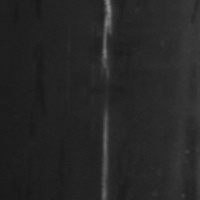scratches: (99, 102, 115, 199), (96, 0, 116, 74)
